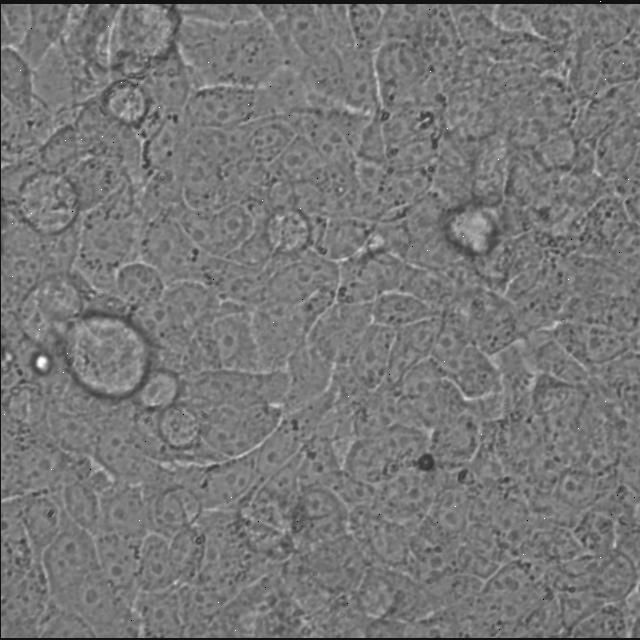microbeads: (412, 448, 434, 472)
